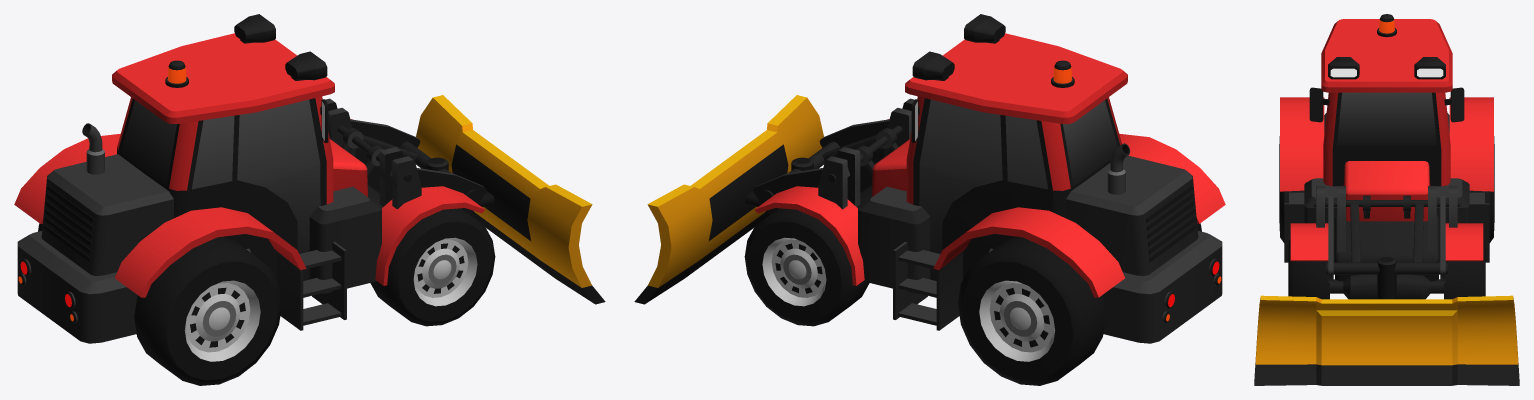
File: Construction_006.glb
3 renders of one model, left to right at view 1: azimuth 30°, elevation 25°; view 2: azimuth 150°, elevation 25°; view 3: azimuth 270°, elevation 25°, orthographic. The views are drawn at different scales.
Parts seen in each view (by area): view 1: Construction_006, wheel_3_Construction_006_Wheel_2R, wheel_1_Construction_006_Wheel_1R; view 2: Construction_006, wheel_2_Construction_006_Wheel_2L, wheel_0_Construction_006_Wheel_1L; view 3: Construction_006, wheel_0_Construction_006_Wheel_1L, wheel_1_Construction_006_Wheel_1R, wheel_2_Construction_006_Wheel_2L, wheel_3_Construction_006_Wheel_2R.
Part boxes in pixels (x1=…): Construction_006: x1=14, y1=14, x2=605, y2=343; wheel_3_Construction_006_Wheel_2R: x1=134, y1=237, x2=282, y2=385; wheel_1_Construction_006_Wheel_1R: x1=370, y1=186, x2=495, y2=326; Construction_006: x1=634, y1=14, x2=1225, y2=343; wheel_2_Construction_006_Wheel_2L: x1=958, y1=237, x2=1105, y2=385; wheel_0_Construction_006_Wheel_1L: x1=744, y1=186, x2=869, y2=326; Construction_006: x1=1254, y1=14, x2=1519, y2=385; wheel_0_Construction_006_Wheel_1L: x1=1444, y1=223, x2=1485, y2=299; wheel_1_Construction_006_Wheel_1R: x1=1288, y1=223, x2=1329, y2=299; wheel_2_Construction_006_Wheel_2L: x1=1489, y1=136, x2=1494, y2=242; wheel_3_Construction_006_Wheel_2R: x1=1279, y1=136, x2=1284, y2=242.
Bounding box in the file's own units: 4.6 × 2.5 × 2.6.
2 materials, 2 textured.
